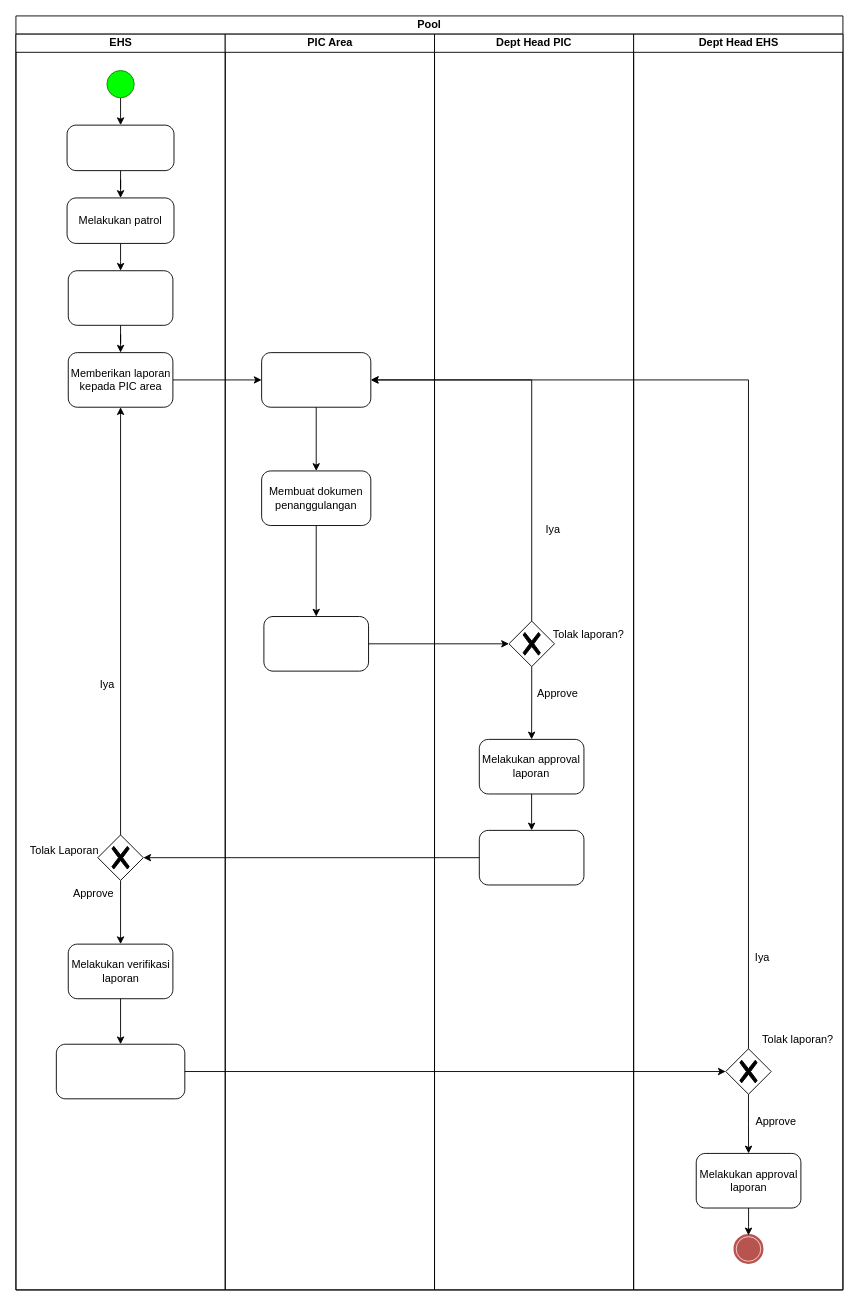
This 859x1306 diagram has some shape labels left out. Here are the shapes that lost their labels. From the top down, the centre of each, then its label:
At point 120,147: "Menentukan tanggal patrol".
At point 120,297: "Membuat dokumen hasil temuan patrol".
At point 316,379: "Melakukan penanggulangan".
At point 316,643: "Meminta approval kepada Dept Head PIC Area".
At point 531,857: "Memberikan dokumen kepada EHS".
At point 120,1071: "Memberikan dokumen laporan kepada Dept Head EHS".
